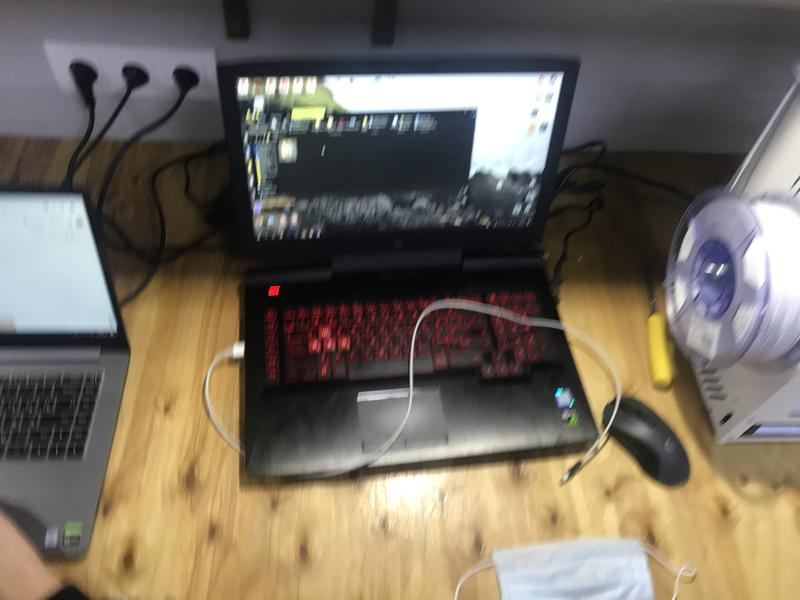medical_mask: (456, 535, 694, 600)
